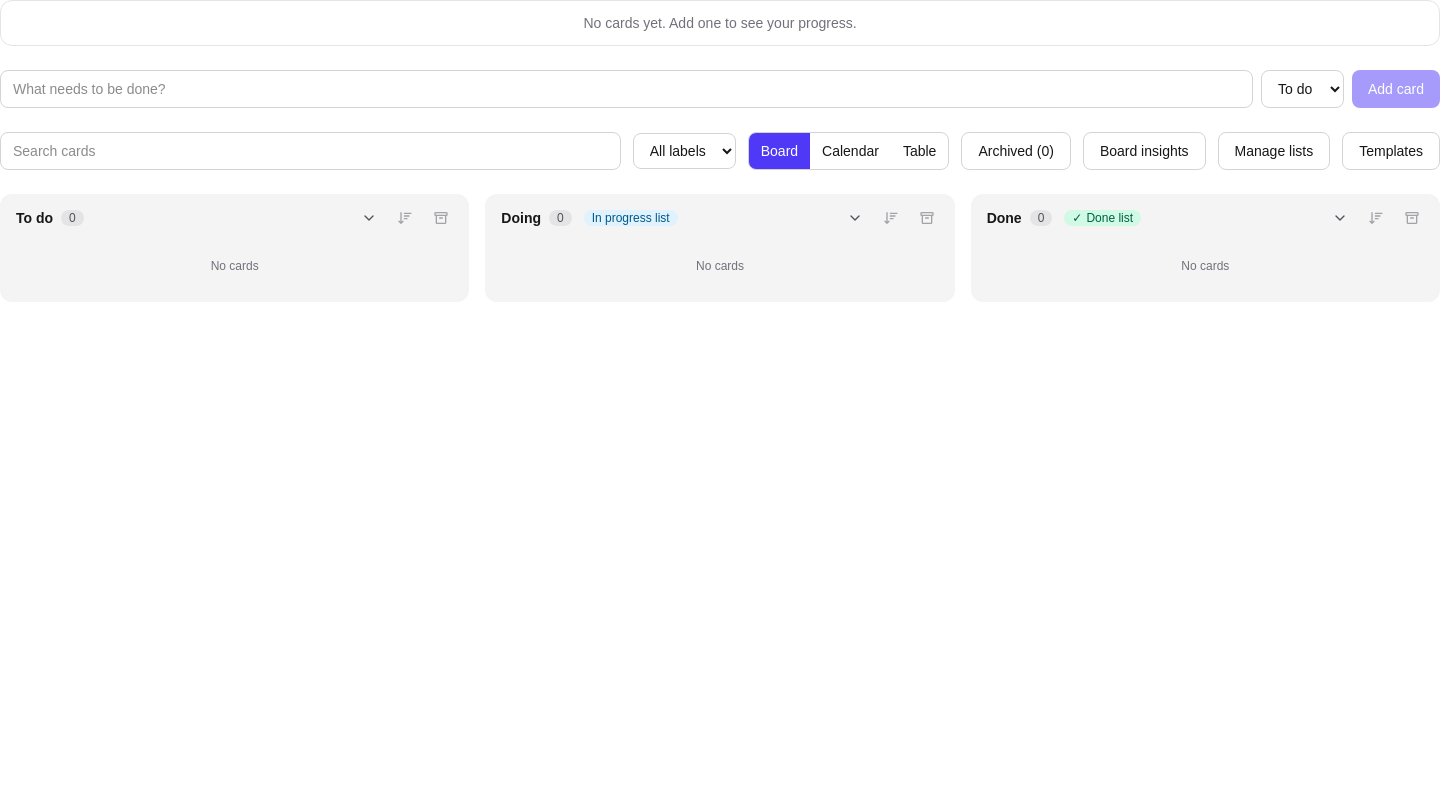
Scenario: <Board /> custom lists › rejects a rename to an existing name
Click the button "Manage lists" at (1274, 151), box top-left (1218, 132), bottom-right (1330, 170)
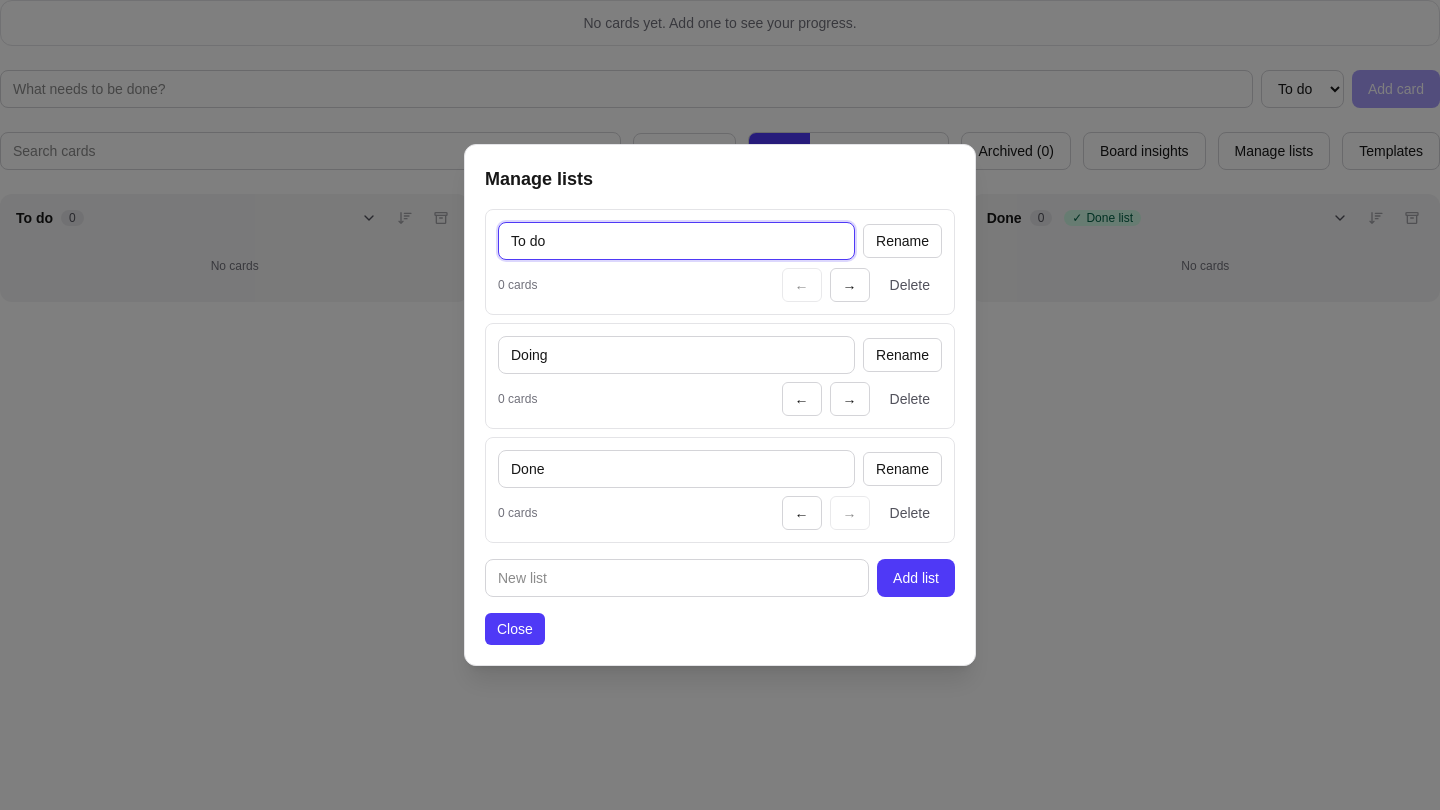
Replace the text in the field named "Name of list \"To do\"" with "DONE" at (677, 241), box top-left (498, 222), bottom-right (855, 260)
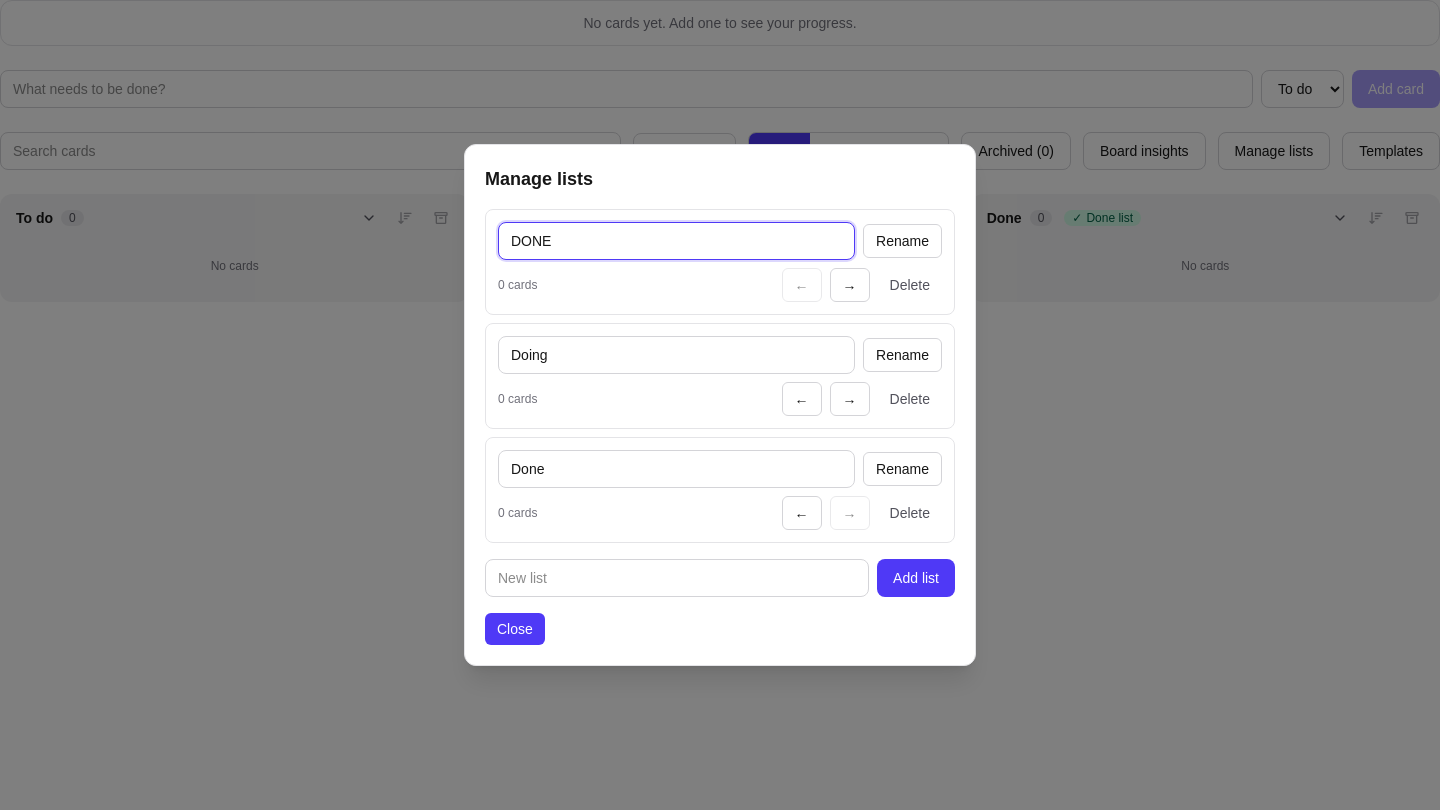
Click the button named "Rename list \"To do\"" at (903, 241), box top-left (863, 224), bottom-right (942, 258)
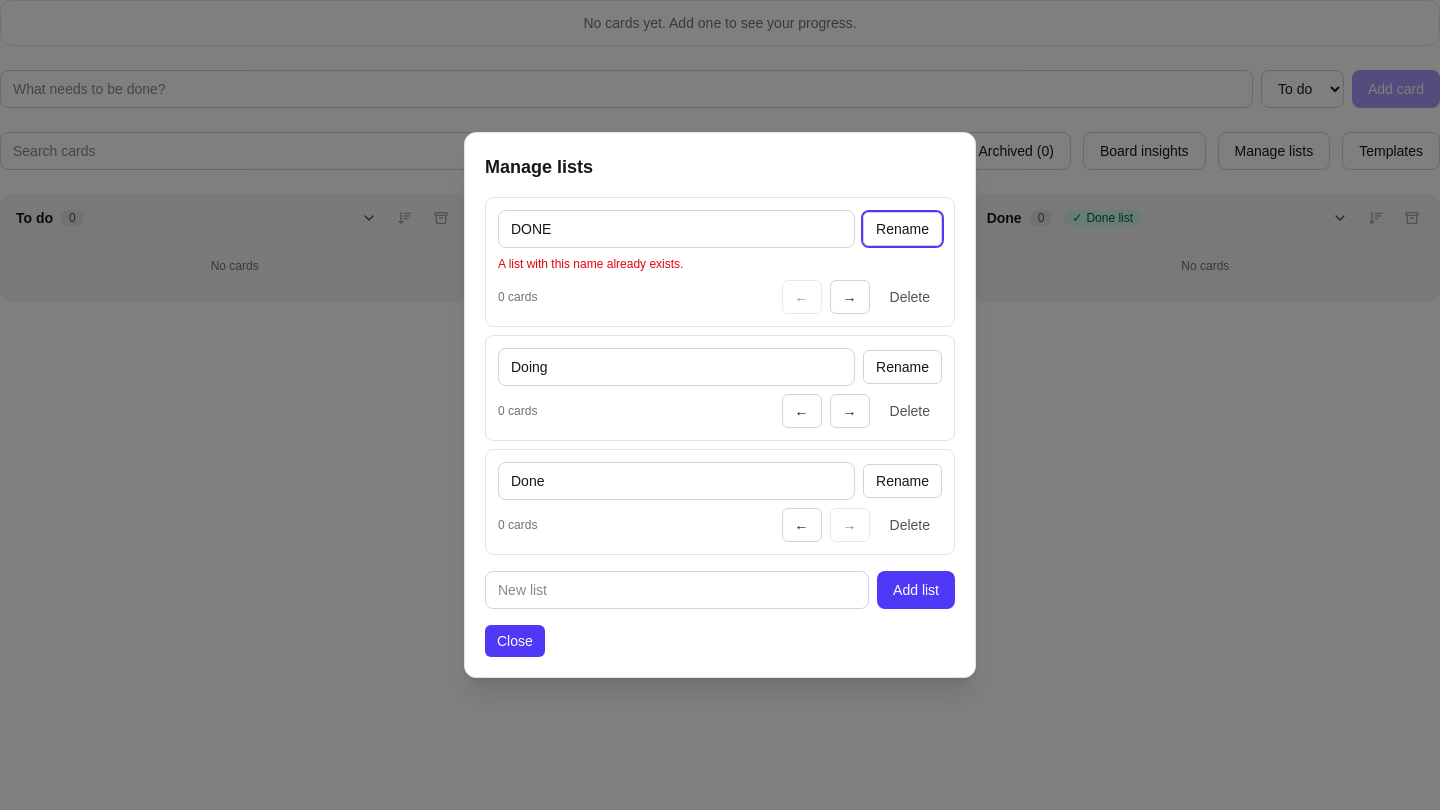
Check: the message shows "already exists", box top-left (498, 257), bottom-right (683, 271)
